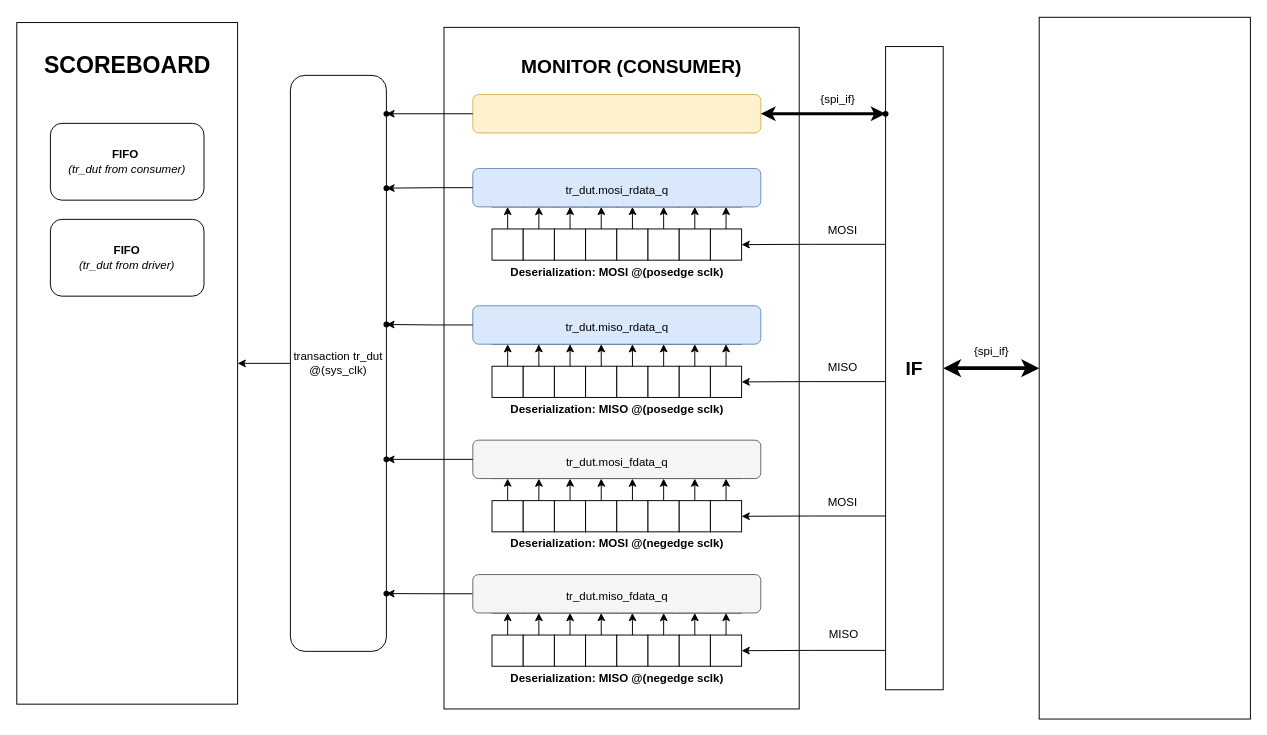
This 1267x735 diagram has some shape labels left out. The centre of each missing label's shape, as x and y in pixels:
DUT: point (1144, 367)
tr_dut.* @(posedge sys_clk): point (616, 113)
